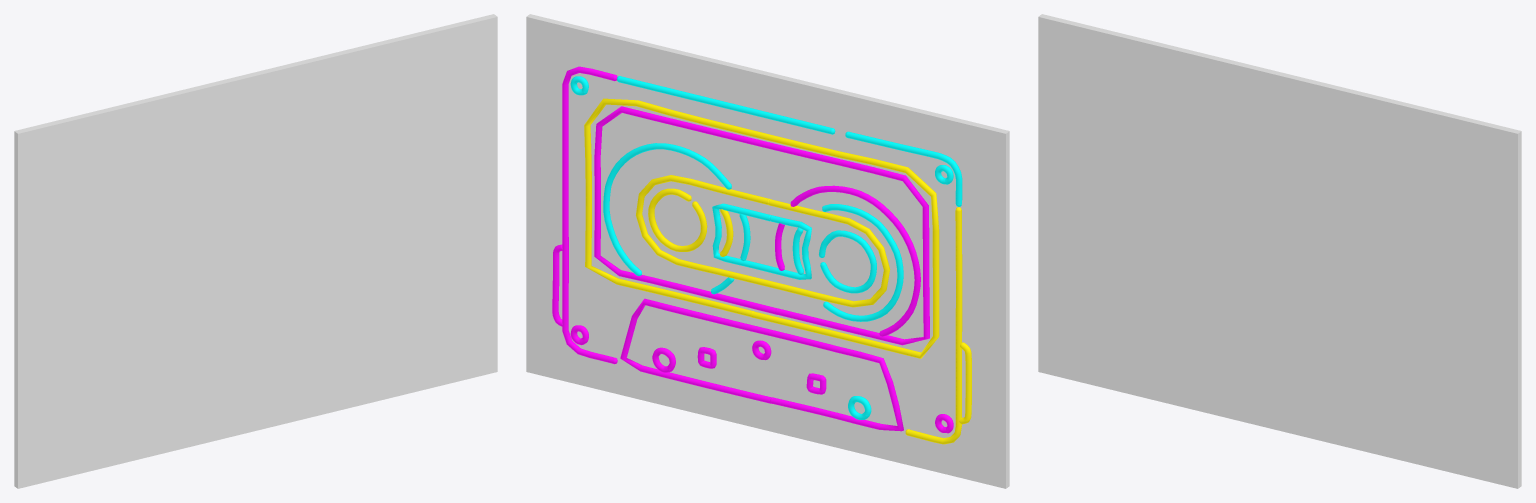
Rendered from my-neon-sign-optimized (36).glb.
The picture shows the model from 3 angles, left to right: view 1: azimuth 30°, elevation 25°; view 2: azimuth 150°, elevation 25°; view 3: azimuth 330°, elevation 25°; orthographic projection.
Size of the model in its own units: 500 by 354 by 17.
